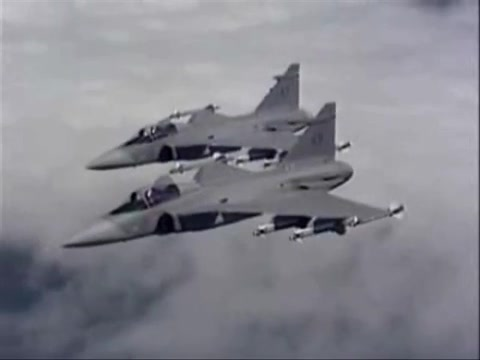aeroplane: (61, 102, 407, 250)
